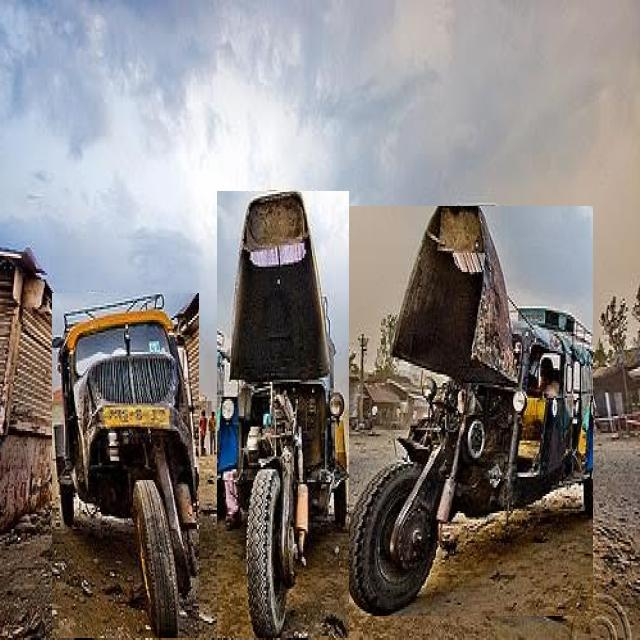autorickshaw: (343, 207, 592, 616), (217, 192, 349, 638), (52, 293, 199, 638)
